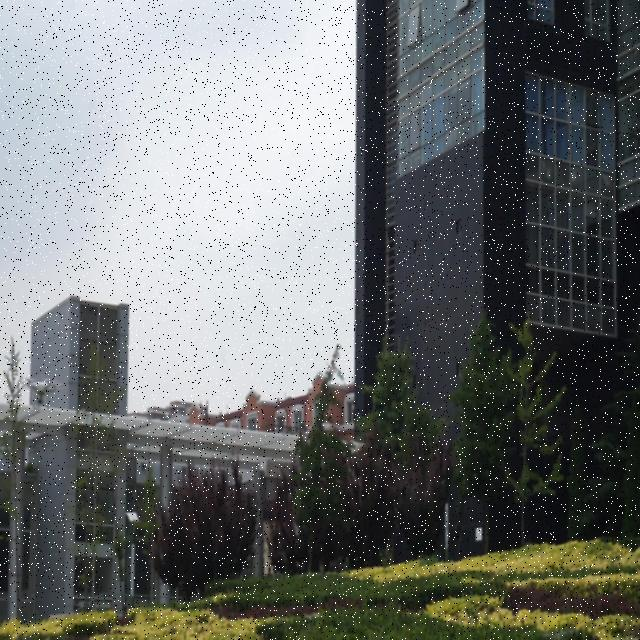UAV: (23, 377, 65, 409)
